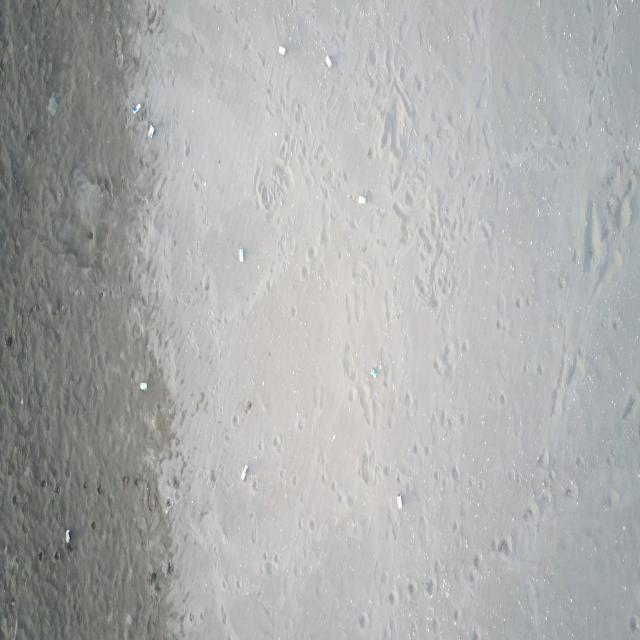Garbage: (47, 94, 57, 115), (240, 464, 247, 480), (395, 493, 402, 508), (64, 528, 70, 544), (324, 55, 332, 67), (147, 125, 154, 138), (278, 44, 286, 55), (132, 103, 140, 112), (369, 368, 377, 377), (357, 195, 366, 203), (238, 247, 243, 261), (139, 382, 147, 390)
